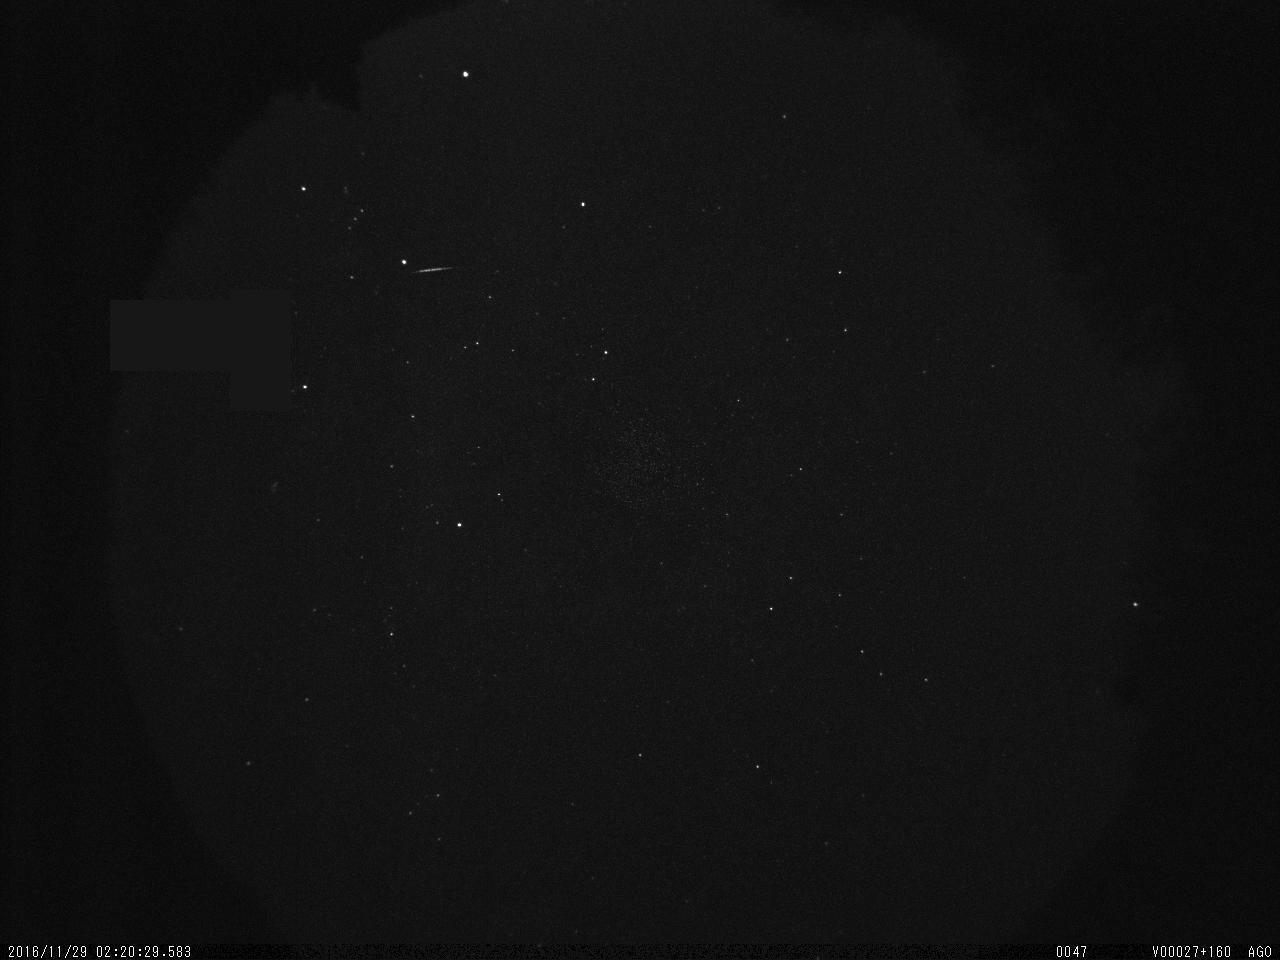Meteor: (409, 260, 461, 277)
